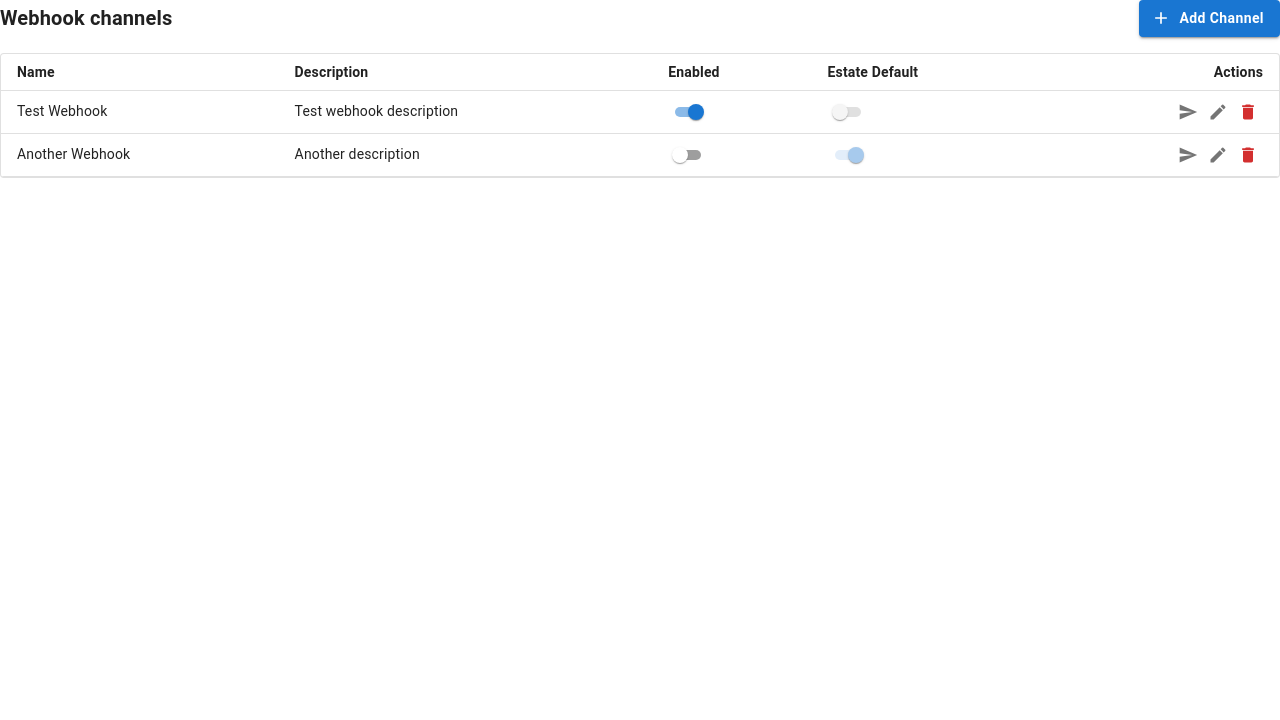
Scenario: AdminWebhookChannels › opens edit dialog populated with non-secret channel data
The image size is (1280, 720).
Expected: the text "Test Webhook" is shown, [1,90,279,133]
What coordinates should you click on to do the following:
click the button named "edit channel" in the row of "Test webhook description"
I would click on:
 (1218, 112)
Its box is [1203,96,1233,126].
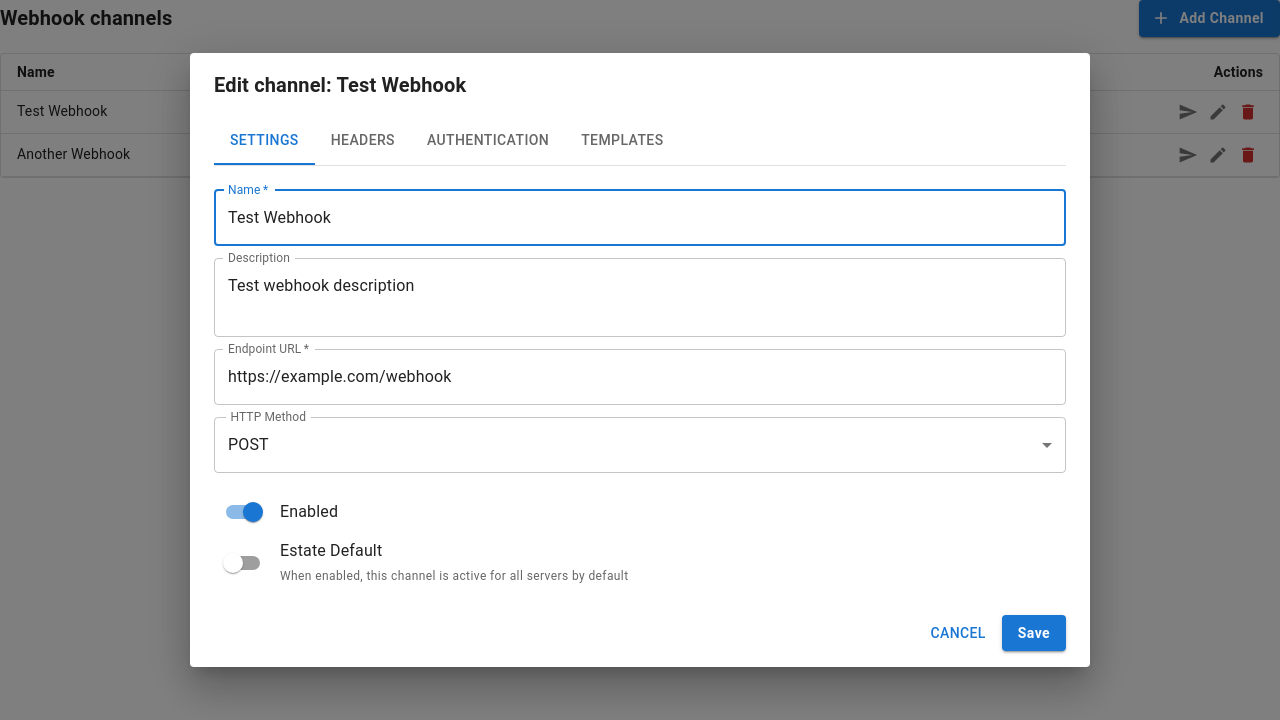
Expected: the heading "Edit channel: Test Webhook" is shown, [214,73,466,97]
Expected: the field labelled "Name *" holds "Test Webhook", [214,190,1066,246]
Expected: the field labelled "Endpoint URL *" holds "https://example.com/webhook", [214,349,1066,405]
